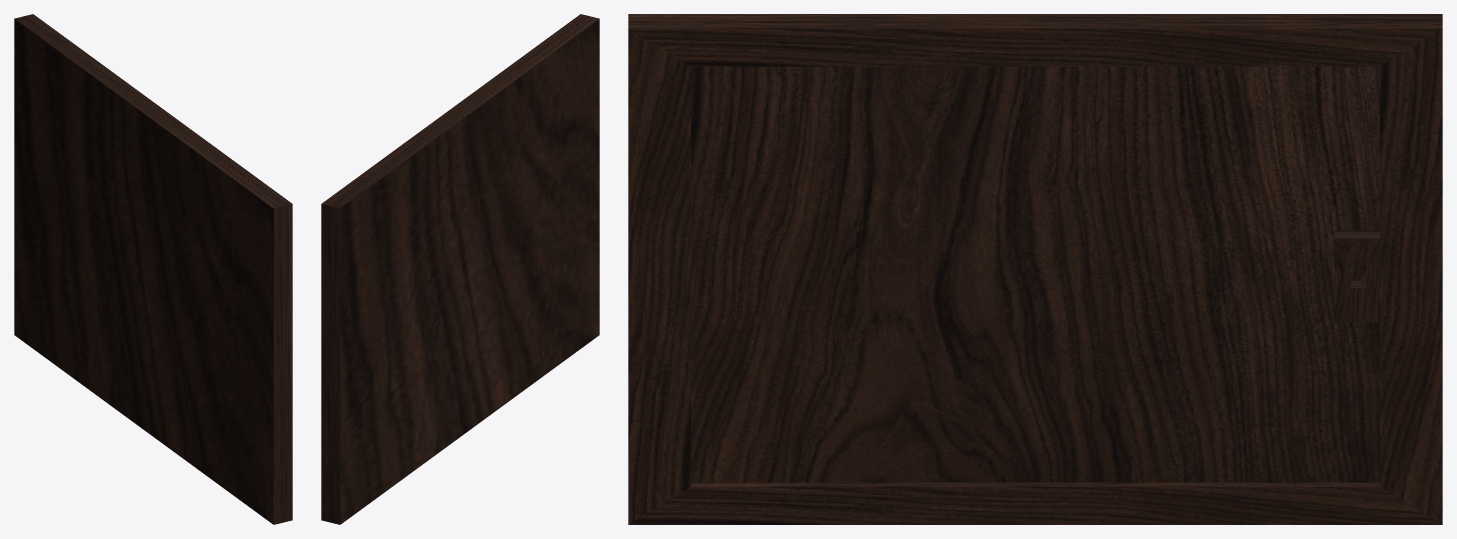
Rendered from Moldura.fbx.
The picture shows the model from 3 angles, left to right: view 1: azimuth 30°, elevation 25°; view 2: azimuth 150°, elevation 25°; view 3: azimuth 270°, elevation 25°; orthographic projection. The views are drawn at different scales.
Parts seen in each view (by area): view 1: Cube.007; view 2: Cube.007; view 3: Cube.007.
Part boxes in pixels (x1,y1,x2,y2): Cube.007: (14, 14, 292, 524); Cube.007: (321, 14, 599, 524); Cube.007: (628, 14, 1442, 524).
Size of the model in its own units: 40.87 by 521 by 774.
